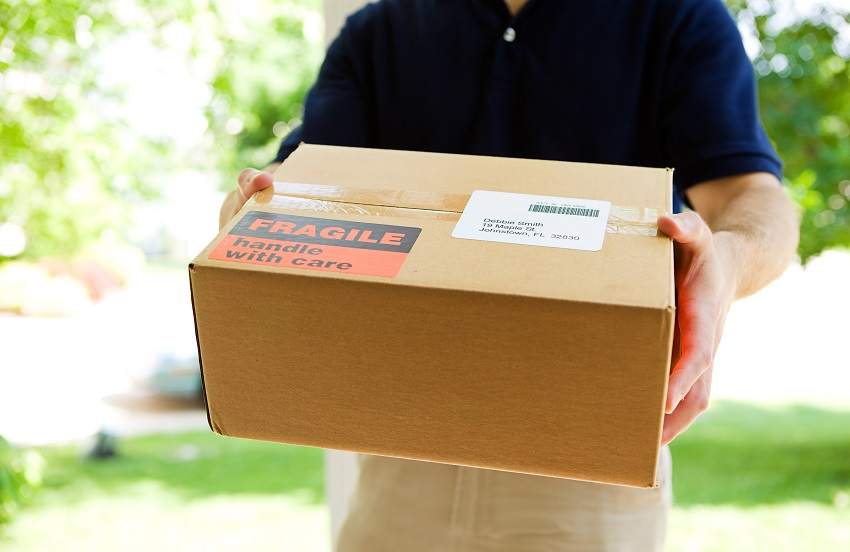package: (189, 131, 689, 489)
person: (306, 8, 778, 552)
